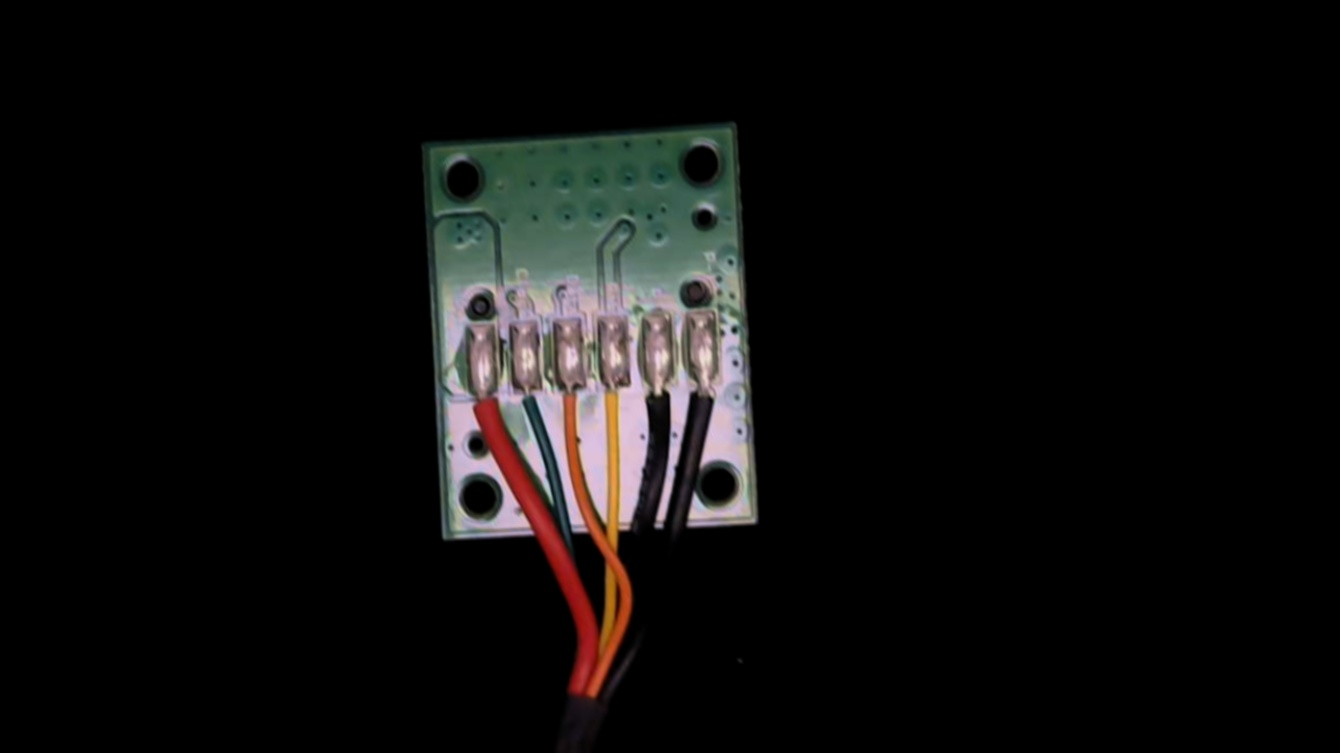Black: (637, 361, 678, 452)
Black1: (686, 355, 726, 439)
Green: (508, 365, 543, 438)
Orange: (553, 368, 588, 454)
Red: (463, 371, 502, 458)
Yellow: (595, 364, 636, 456)
